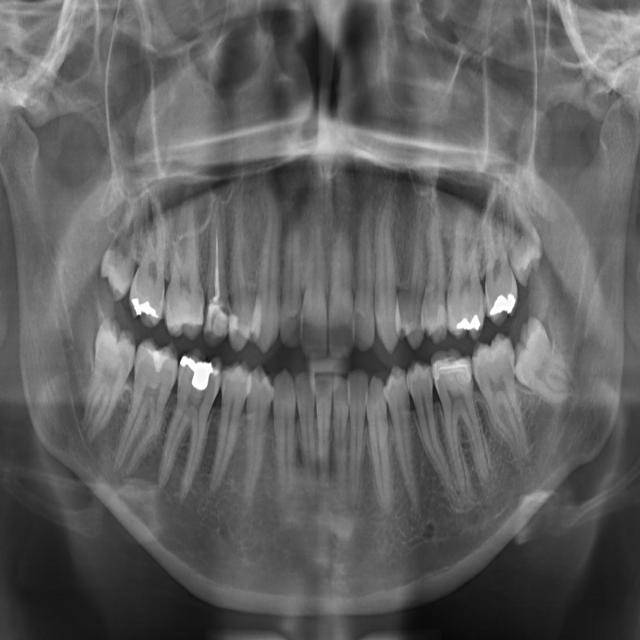AmalgamRestoration: (182, 354, 218, 394), (131, 295, 160, 324), (490, 291, 515, 317), (458, 314, 482, 334)
CompositeResinRestoration: (435, 355, 473, 397), (150, 346, 173, 385), (210, 312, 226, 338), (435, 302, 447, 336), (231, 315, 240, 344)
Crown: (213, 300, 230, 330)
ImpactedTooth: (82, 314, 136, 423), (512, 311, 570, 393), (505, 202, 544, 286)
RootCanalTreatment: (209, 206, 224, 305)
